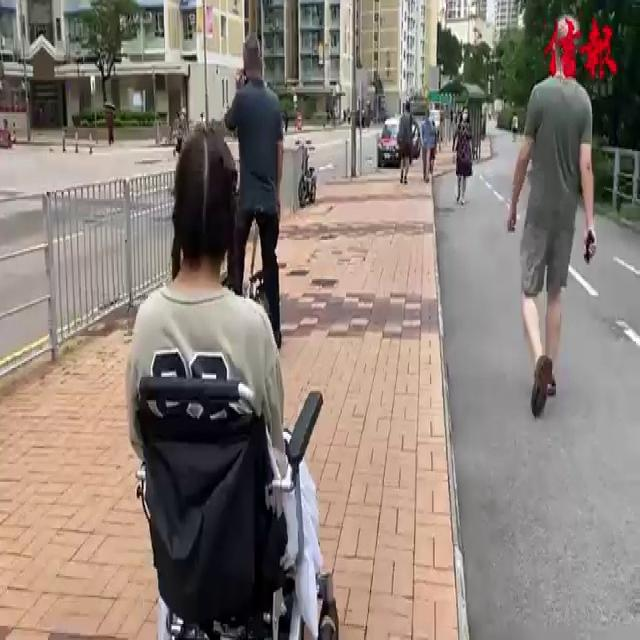wheelchairs: (127, 341, 347, 640)
